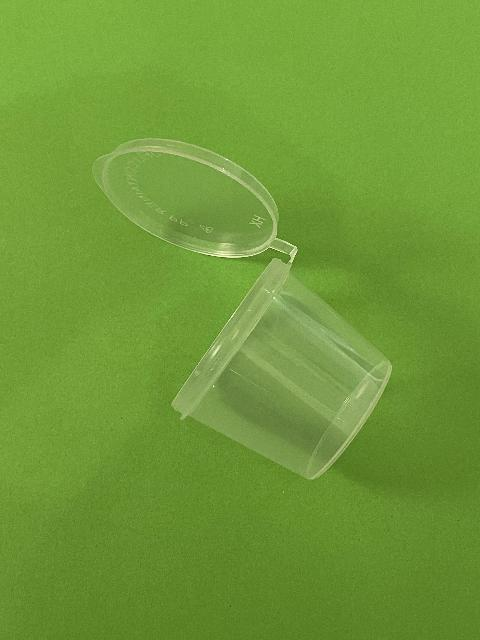plasticcontainer: (90, 135, 394, 483)
